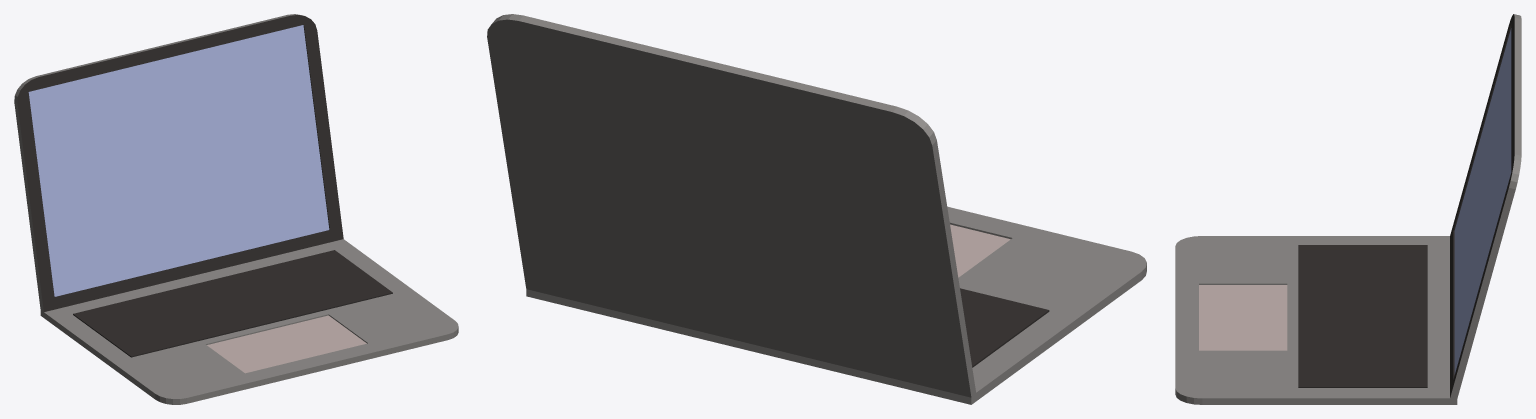
Rendered from Laptop.fbx.
The picture shows the model from 3 angles, left to right: view 1: azimuth 30°, elevation 25°; view 2: azimuth 150°, elevation 25°; view 3: azimuth 270°, elevation 25°; orthographic projection. The views are drawn at different scales.
Parts seen in each view (by area): view 1: Laptop; view 2: Laptop; view 3: Laptop.
Part boxes in pixels (x1,y1,x2,y2): Laptop: [14, 14, 458, 404]; Laptop: [487, 14, 1146, 404]; Laptop: [1175, 14, 1521, 404].
Bounding box in the file's own units: 45.1 × 30.75 × 40.59.
